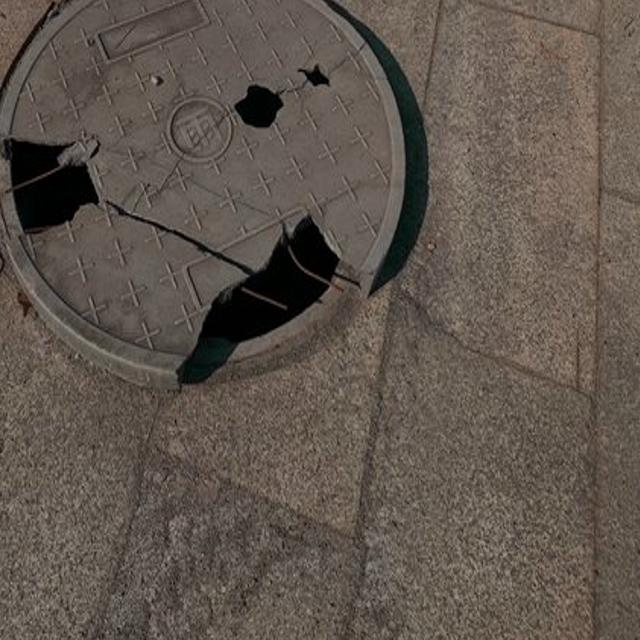broke: (0, 0, 444, 399)
